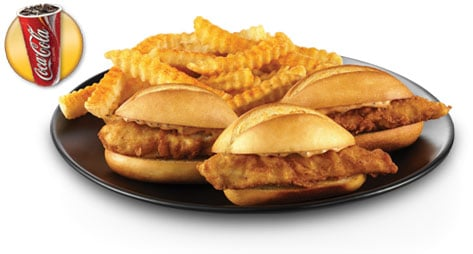soup: (195, 103, 396, 207), (279, 64, 452, 152), (99, 83, 239, 184)
